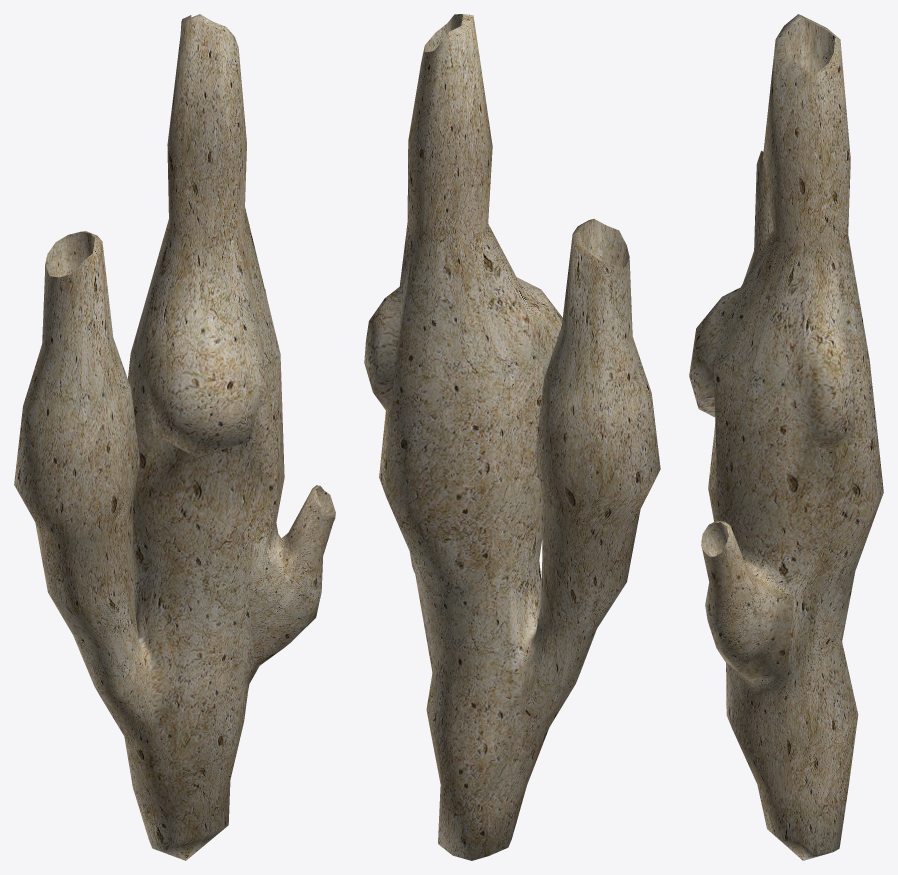
The model's file is poi_all_lair_insecthill_large_l0.fbx.
3 renders of one model, left to right at view 1: azimuth 30°, elevation 25°; view 2: azimuth 150°, elevation 25°; view 3: azimuth 270°, elevation 25°, orthographic.
Parts seen in each view (by area): view 1: mesh_node; view 2: mesh_node; view 3: mesh_node.
Boxes of the visible parts, box(x1,y1,x2,y2) form: mesh_node: box(14, 14, 335, 860); mesh_node: box(364, 14, 660, 860); mesh_node: box(689, 14, 883, 860).
Size of the model in its own units: 2.59 by 7.54 by 1.57.
1 material, 1 textured.
